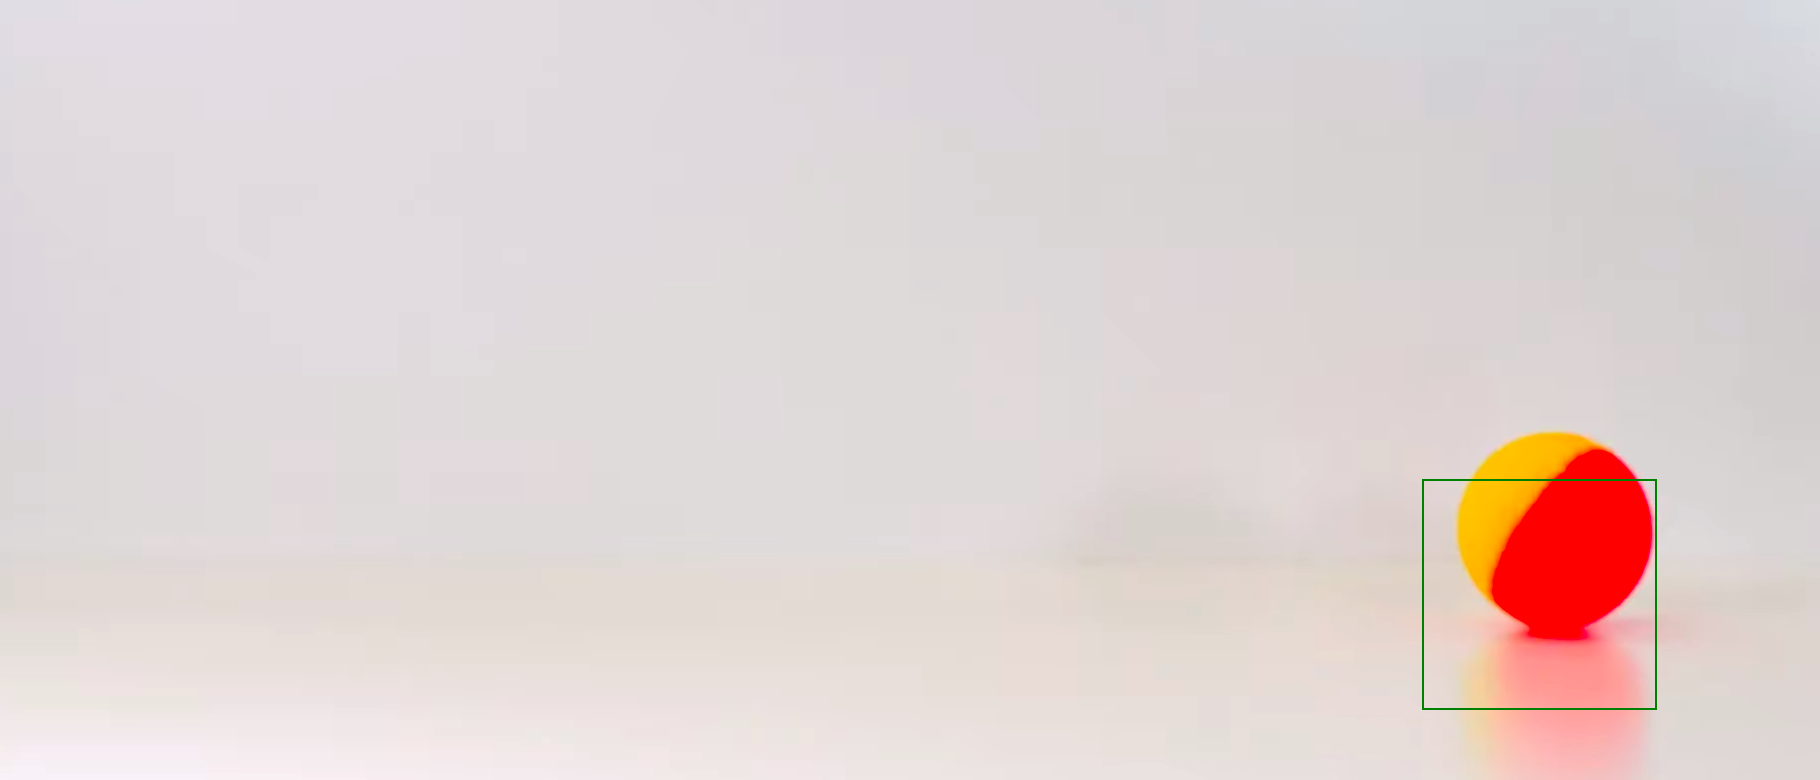Circle: (1456, 428, 1658, 631)
